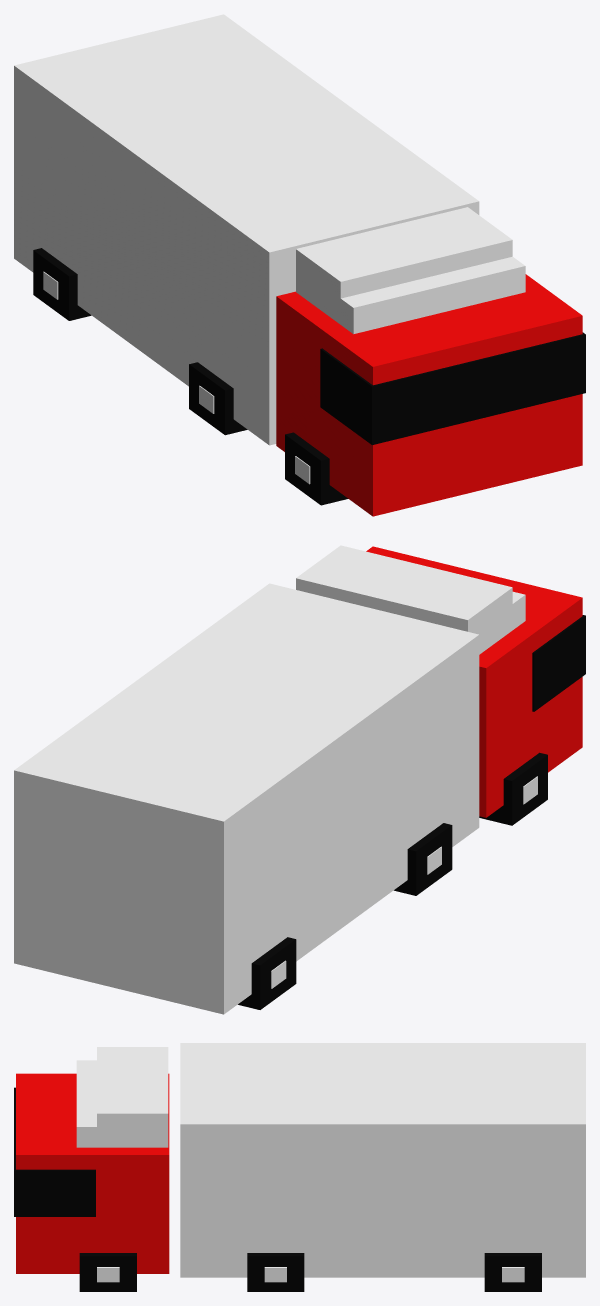
File: Truck.FBX
3 renders of one model, top to bottom at view 1: azimuth 30°, elevation 25°; view 2: azimuth 150°, elevation 25°; view 3: azimuth 270°, elevation 25°, orthographic. The views are drawn at different scales.
Parts seen in each view (by area): view 1: Truck; view 2: Truck; view 3: Truck.
Boxes of the visible parts, bbox=[...] form: Truck: bbox=[14, 14, 585, 516]; Truck: bbox=[14, 545, 585, 1014]; Truck: bbox=[14, 1043, 585, 1291].
Size of what is drawn, in the model's own units: 36.93 by 100 by 32.37.
